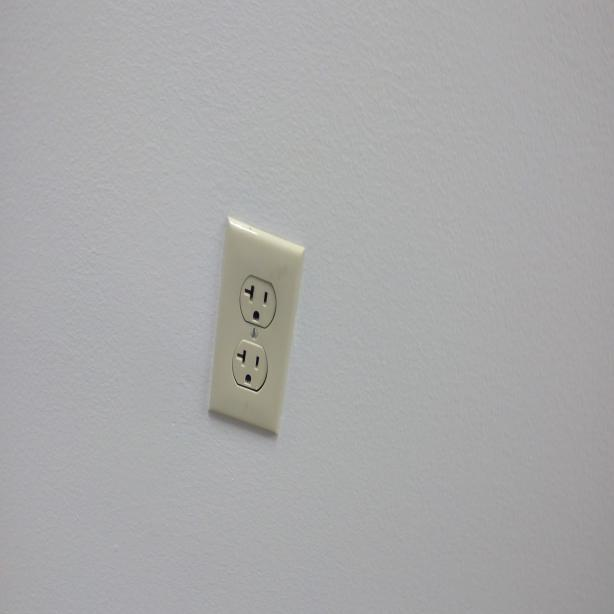typeb: (240, 274, 276, 330), (233, 339, 267, 392)
